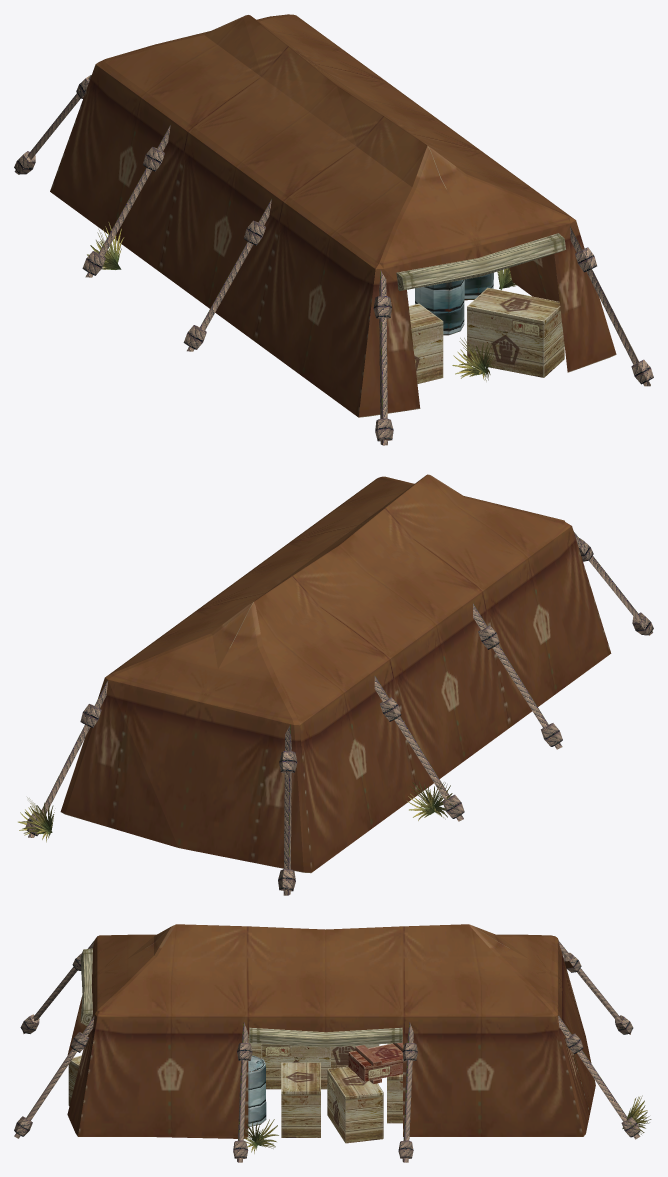
The model's file is C1SMTUNTENTHAH.obj.
3 renders of one model, top to bottom at view 1: azimuth 30°, elevation 25°; view 2: azimuth 150°, elevation 25°; view 3: azimuth 270°, elevation 25°, orthographic. The views are drawn at different scales.
Visible parts, largest first — view 1: Node 0, Node 6, Node 5; view 2: Node 0; view 3: Node 0, Node 3, Node 4, Node 5, Node 6.
Part boxes in pixels (x1=…): Node 0: x1=14, y1=14, x2=653, y2=445; Node 6: x1=408, y1=287, x2=564, y2=383; Node 5: x1=415, y1=272, x2=493, y2=335; Node 0: x1=18, y1=474, x2=653, y2=895; Node 0: x1=14, y1=924, x2=651, y2=1162; Node 3: x1=281, y1=1039, x2=402, y2=1143; Node 4: x1=248, y1=1034, x2=402, y2=1089; Node 5: x1=248, y1=1055, x2=266, y2=1126; Node 6: x1=68, y1=1055, x2=81, y2=1105.
Bounding box in the file's own units: 9.26 × 4.92 × 16.53.
10 materials, 10 textured.
